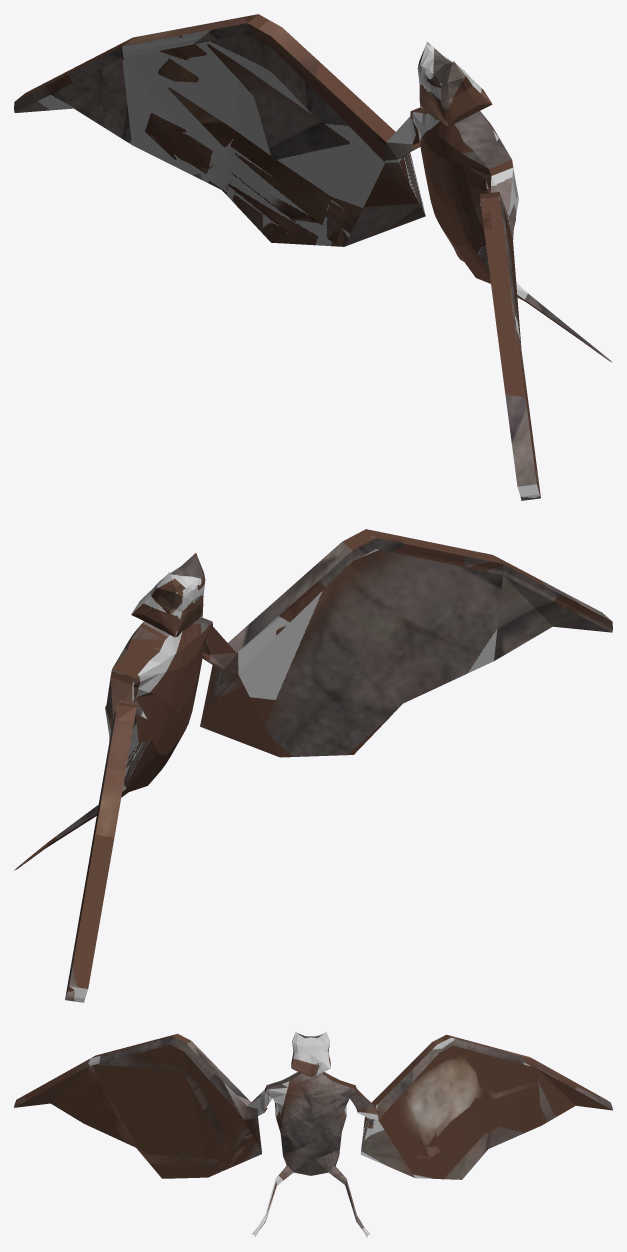
The model's file is Enemigo16.obj.
3 views of the same model, one above another, from view 1: azimuth 30°, elevation 25°; view 2: azimuth 150°, elevation 25°; view 3: azimuth 270°, elevation 25° (orthographic). The views are drawn at different scales.
Parts seen in each view (by area): view 1: Plano; view 2: Plano; view 3: Plano.
Part boxes in pixels (x1,y1,x2,y2): Plano: (14,14,612,500); Plano: (14,529,612,1002); Plano: (14,1031,612,1237).
Bounding box in the file's own units: 0.7029 × 0.6811 × 2.13.
Materials: 1 (1 with a texture image).
